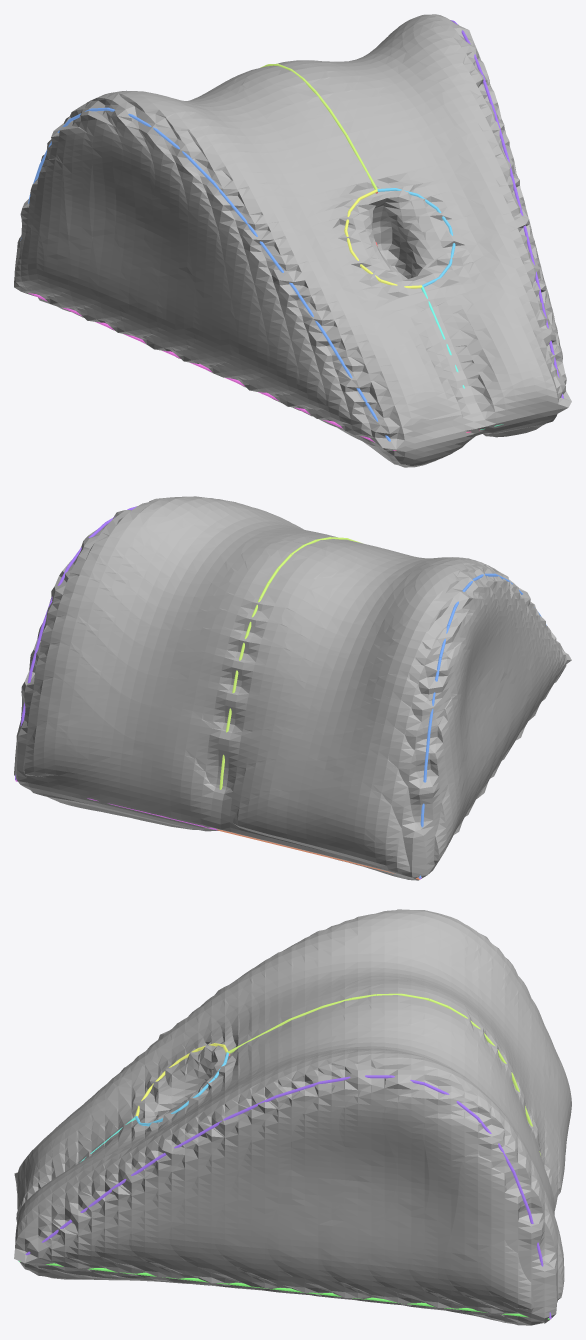
Rendered from onshape_simple_mouse.gltf.
The picture shows the model from 3 angles, top to bottom: view 1: azimuth 30°, elevation 25°; view 2: azimuth 150°, elevation 25°; view 3: azimuth 270°, elevation 25°; orthographic projection.
Bounding box in the file's own units: 0.6624 × 0.3941 × 0.7422.
